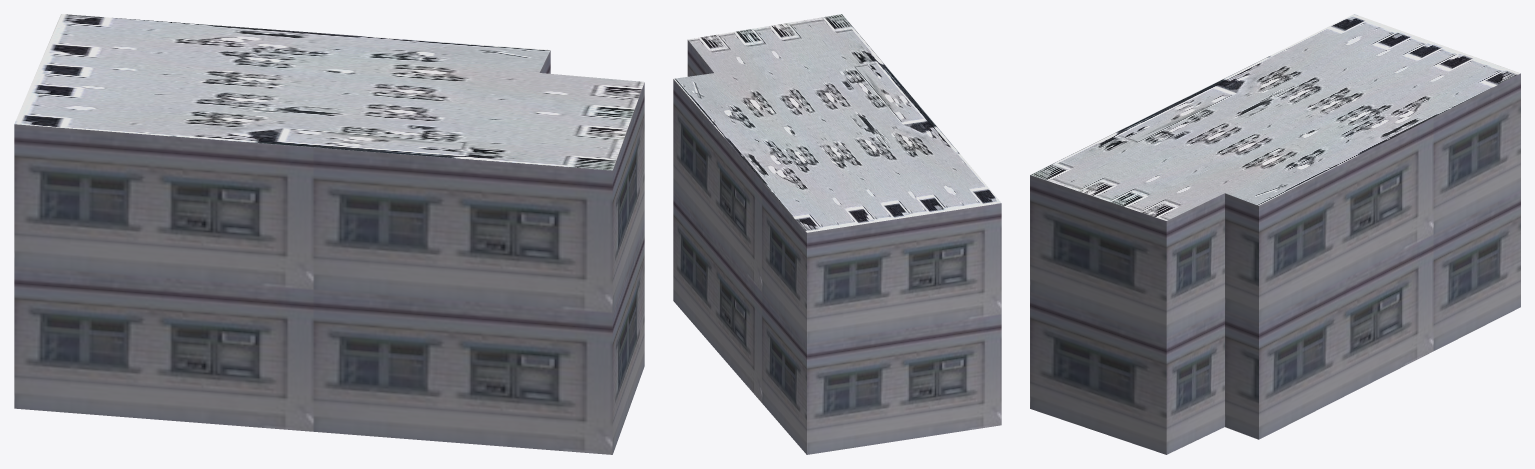
File: ResTex__1190.fbx
3 renders of one model, left to right at view 1: azimuth 30°, elevation 25°; view 2: azimuth 150°, elevation 25°; view 3: azimuth 270°, elevation 25°, orthographic. The views are drawn at different scales.
Visible parts, largest first — view 1: CityEngineMaterial_1_m, CityEngineMaterial_m; view 2: CityEngineMaterial_1_m, CityEngineMaterial_m; view 3: CityEngineMaterial_1_m, CityEngineMaterial_m.
Part boxes in pixels (x1,y1,x2,y2): CityEngineMaterial_1_m: [14, 51, 644, 454]; CityEngineMaterial_m: [14, 14, 644, 170]; CityEngineMaterial_1_m: [673, 40, 1001, 454]; CityEngineMaterial_m: [673, 14, 1001, 232]; CityEngineMaterial_1_m: [1030, 73, 1520, 454]; CityEngineMaterial_m: [1030, 14, 1520, 220].
Bounding box in the file's own units: 11.4 × 6 × 11.41.
Materials: 2 (2 with a texture image).
